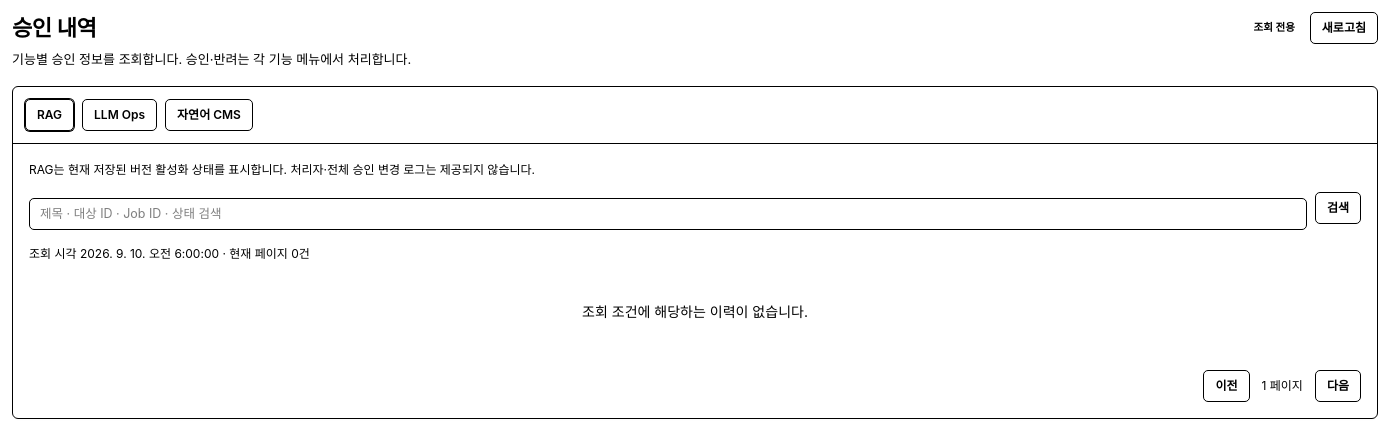
it: approval tabs are read-only and explicitly disclose incomplete source coverage
Check: the heading "승인 내역" is shown, box left=12, top=15, right=96, bottom=41
Check: the text "조회 조건에 해당하는 이력이 없습니다." is shown, box left=582, top=302, right=808, bottom=320
What coordinates should you click on to do the following:
click the tab "자연어 CMS"
I would click on:
 (209, 114)
Its box is left=165, top=98, right=253, bottom=130.
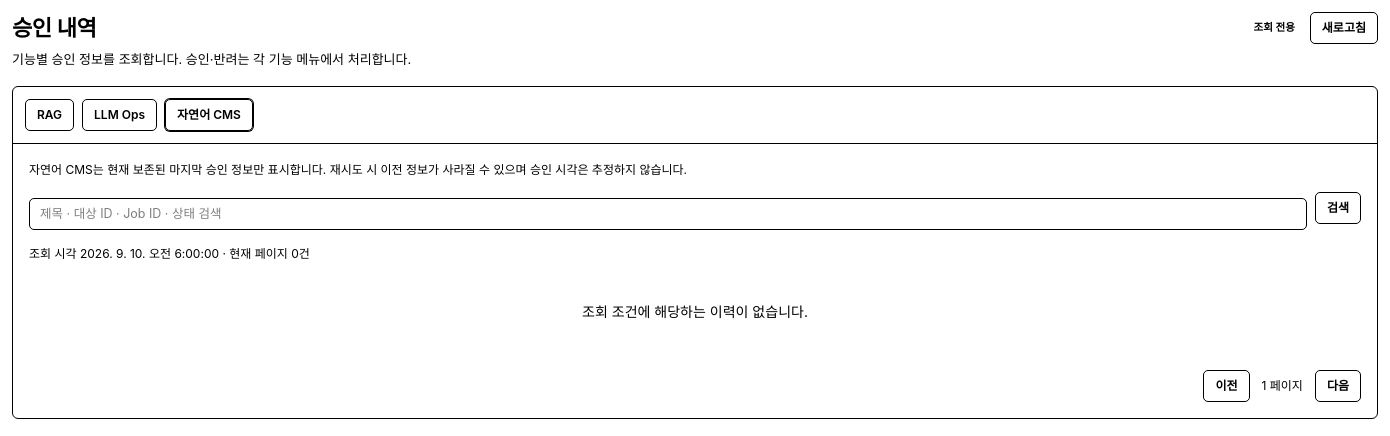
Check: the text "현재 보존된 마지막 승인 정보만" is shown, box left=29, top=162, right=687, bottom=176
